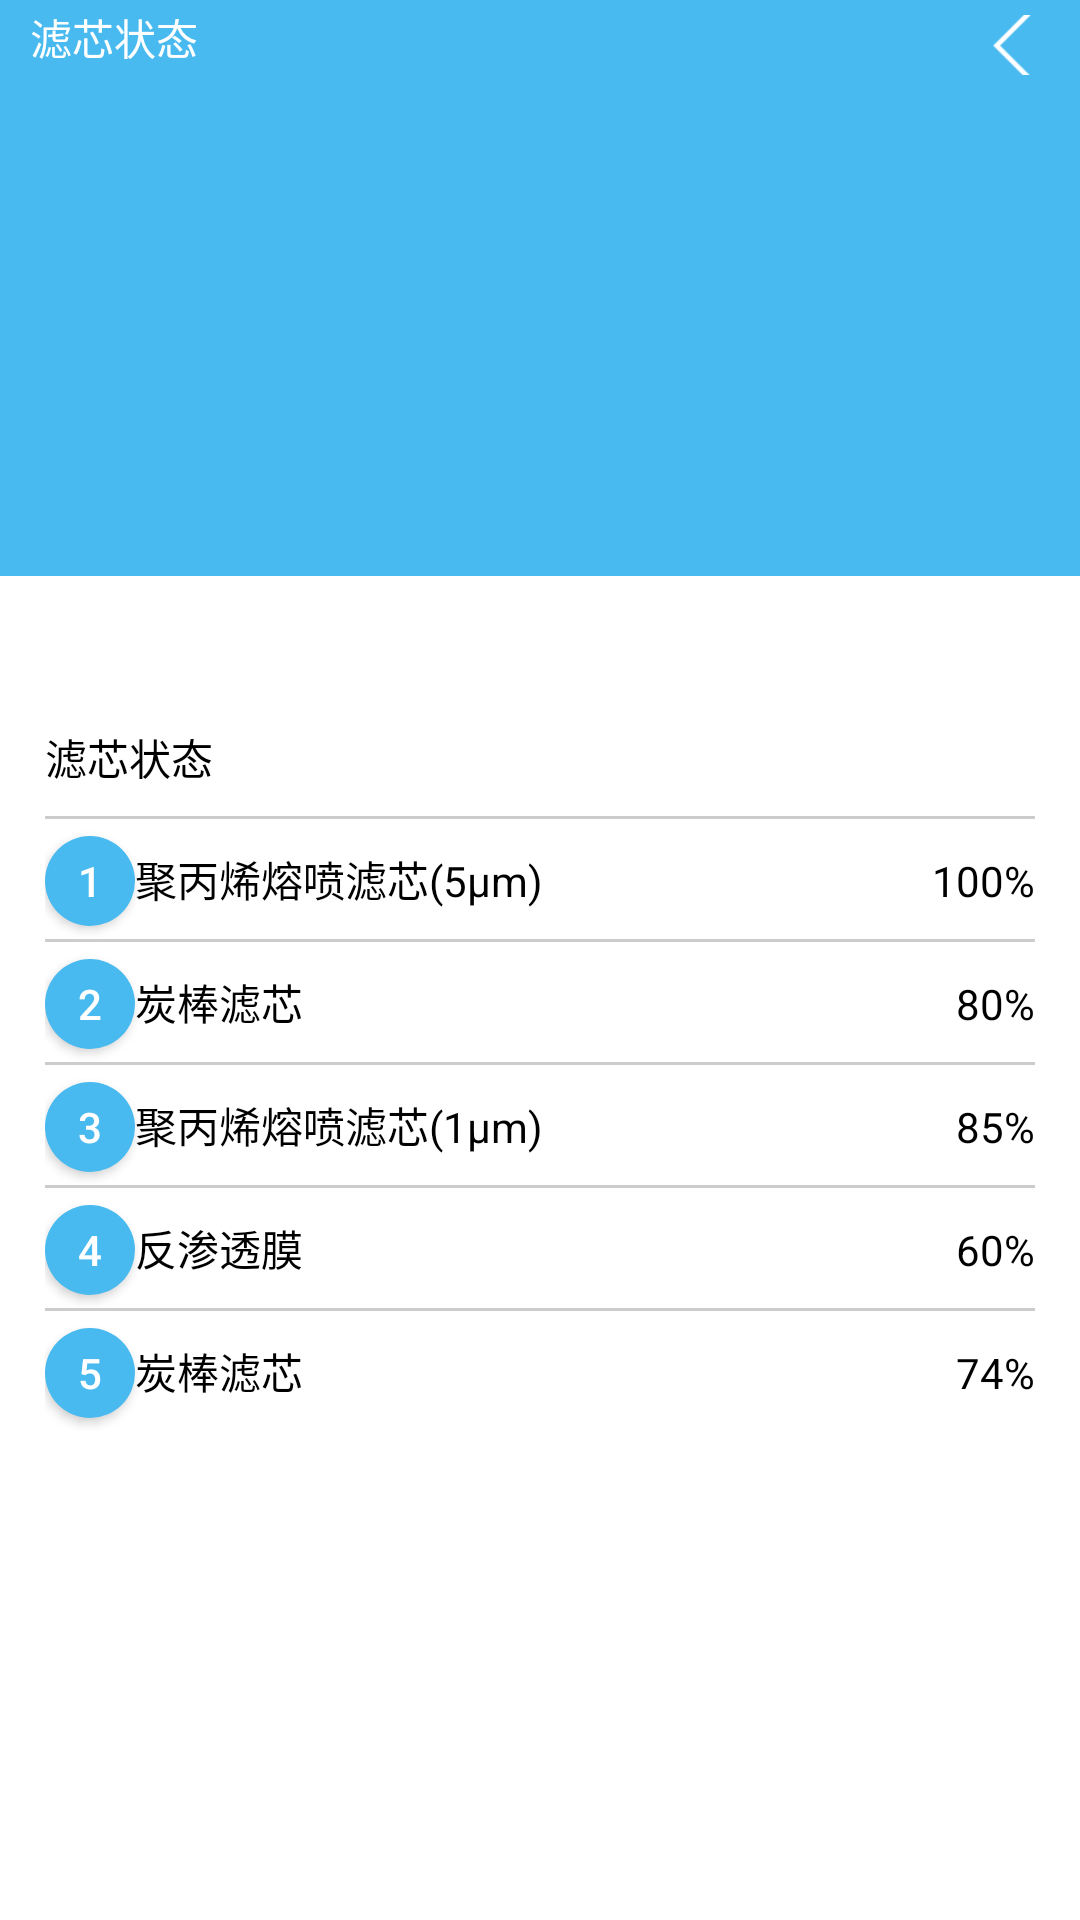

Icon bounding boxes for this 1080w x 1920h phone screenshot, format (x1, y1, x2, y2):
jiantou: (993, 15, 1031, 75)
